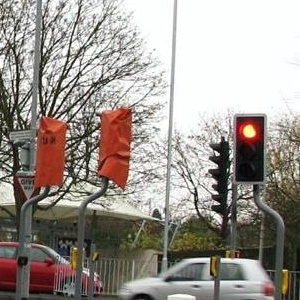stop: (235, 113, 265, 185)
